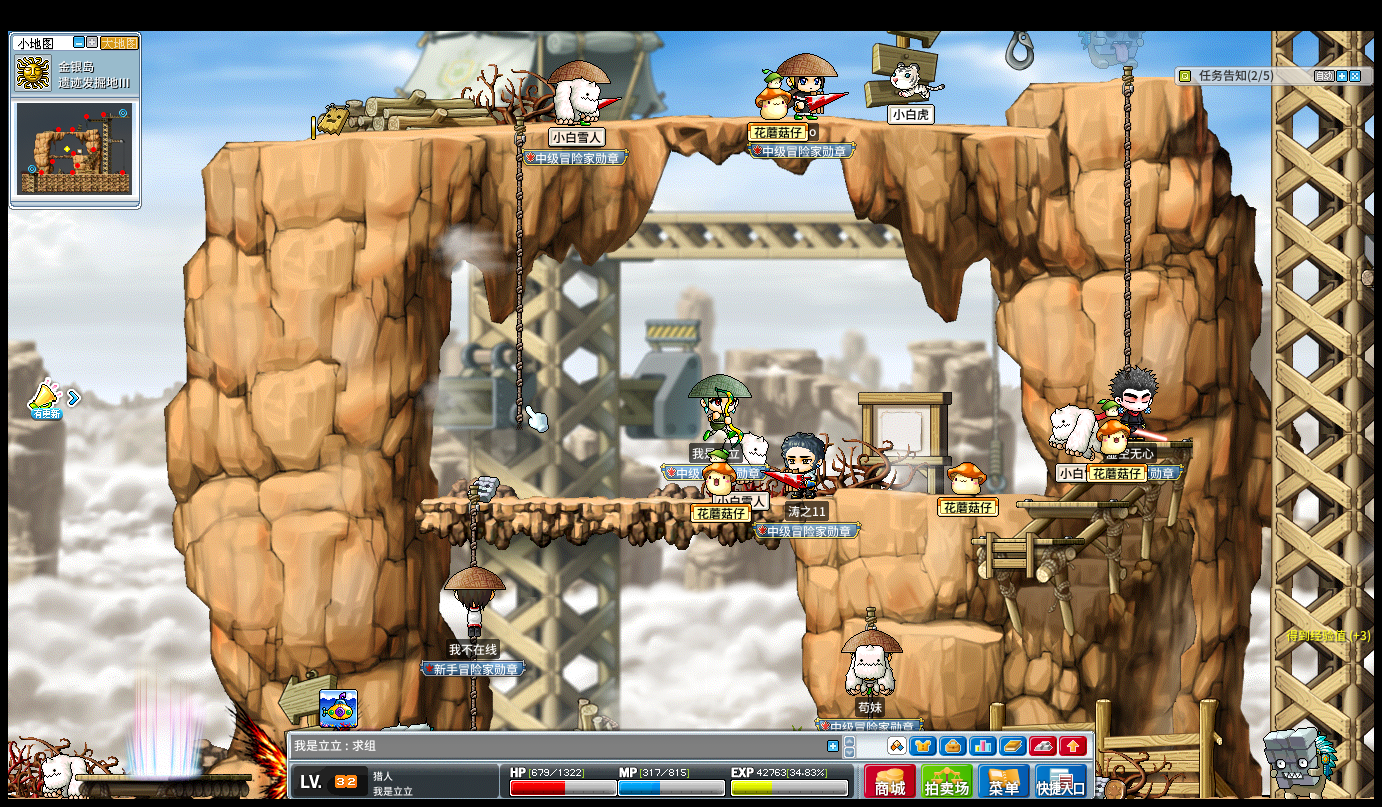floor: (210, 112, 1070, 145), (419, 496, 797, 507), (898, 620, 1003, 642), (1025, 75, 1187, 89), (1032, 73, 1184, 86), (967, 538, 1082, 550), (900, 491, 1051, 500), (971, 533, 1082, 545), (1015, 498, 1128, 509), (1139, 438, 1193, 447)
monster: (1262, 728, 1337, 794)
rope: (1119, 58, 1134, 375), (513, 116, 526, 428), (465, 483, 480, 566), (467, 677, 477, 730)
